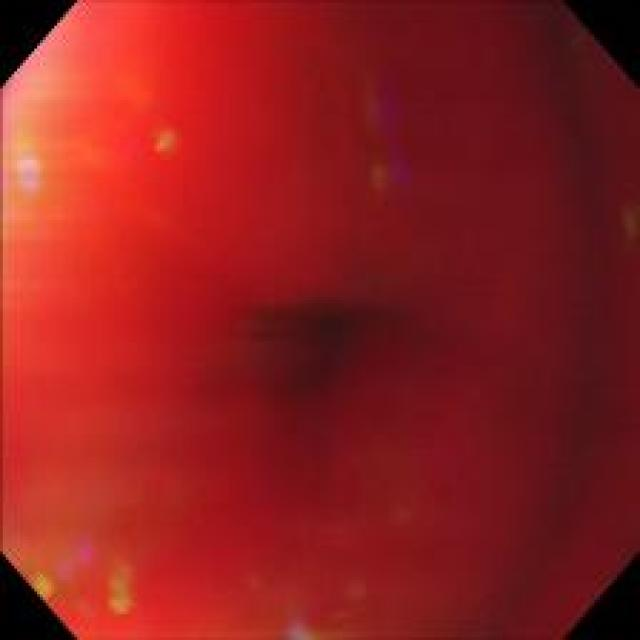blur: (2, 1, 636, 636)
color misalignment: (5, 8, 635, 634), (5, 512, 151, 630), (336, 70, 419, 194), (4, 128, 58, 226)
